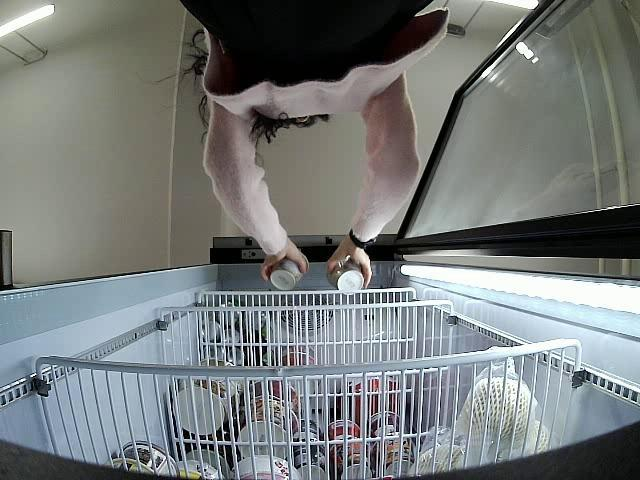04_chapagetti_S: (328, 254, 368, 295), (270, 256, 306, 292)
